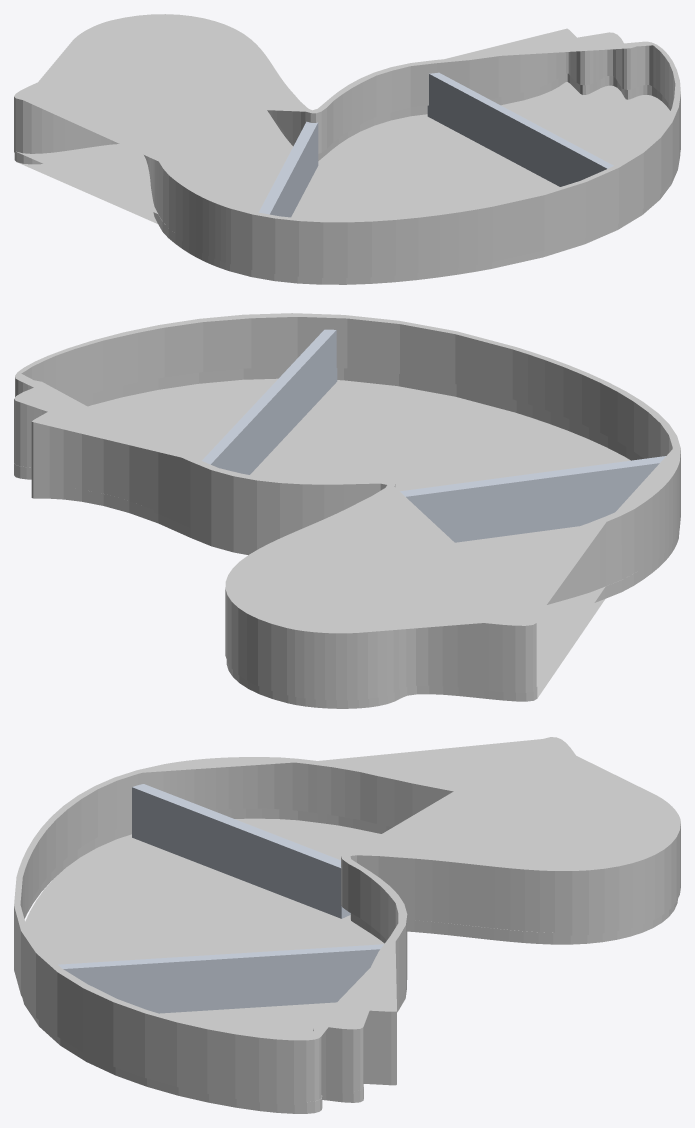
Rendered from Duck1 stencil _separate.fbx.
3 views of the same model, one above another, from view 1: azimuth 30°, elevation 25°; view 2: azimuth 150°, elevation 25°; view 3: azimuth 270°, elevation 25° (orthographic). The views are drawn at different scales.
Visible parts, largest first — view 1: Base, Duck part 1, Duck part 2, Duck part 3, Part; view 2: Duck part 1, Base, Duck part 2, Duck part 3, Part; view 3: Duck part 1, Base, Duck part 3, Part, Duck part 2.
Boxes of the visible parts, left/top/right/bottom form: Base: left=14, top=82, right=680, bottom=284; Duck part 1: left=14, top=14, right=307, bottom=269; Duck part 2: left=253, top=59, right=620, bottom=277; Duck part 3: left=444, top=28, right=680, bottom=222; Part: left=258, top=72, right=613, bottom=217; Duck part 1: left=225, top=448, right=680, bottom=700; Base: left=14, top=378, right=679, bottom=708; Duck part 2: left=181, top=315, right=680, bottom=547; Duck part 3: left=14, top=313, right=341, bottom=524; Part: left=202, top=329, right=665, bottom=542; Duck part 1: left=137, top=737, right=680, bottom=935; Base: left=22, top=818, right=677, bottom=1113; Duck part 3: left=37, top=941, right=396, bottom=1104; Part: left=58, top=784, right=383, bottom=1013; Duck part 2: left=14, top=770, right=407, bottom=1017.
Bounding box in the file's own units: 825 × 93.09 × 766.
Materials: 1 (1 with a texture image).
